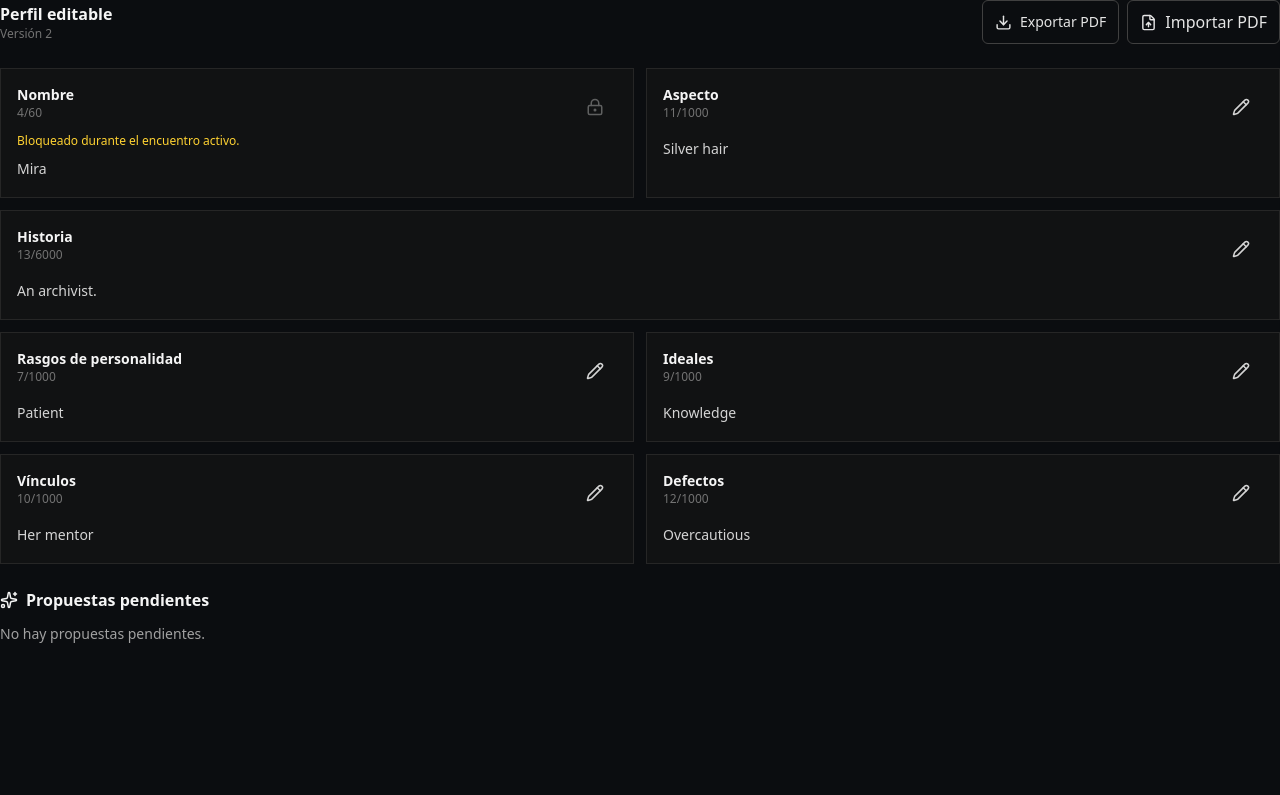
Test: CharacterProfileEditor › explains a locked name and keeps other narrative fields editable
Expected: the button named "Editar Nombre" is disabled, [573,85,617,129]
Expected: the text "Bloqueado durante el encuentro activo." is shown, [17,132,240,149]
Click the button named "Editar Aspecto" at coordinates (1241, 107), box [1219,85,1263,129]
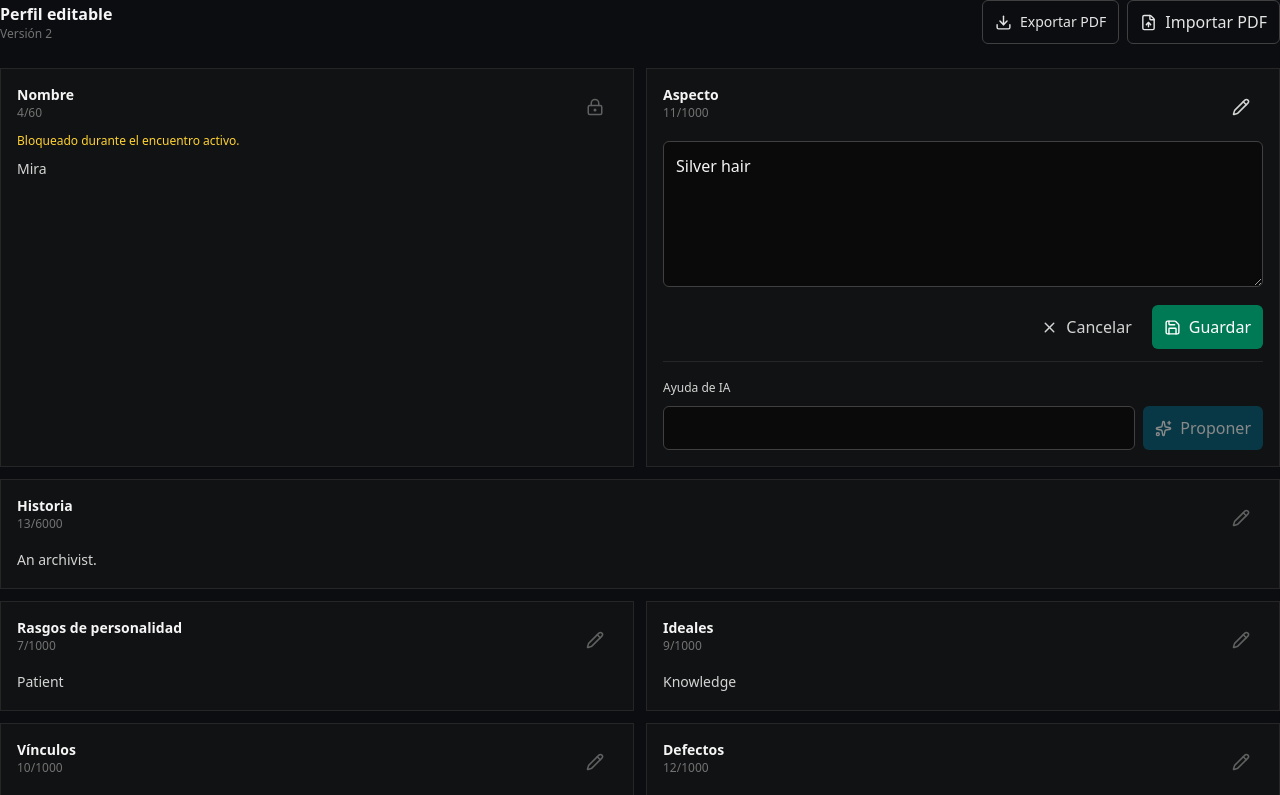
Expected: the text box named "Aspecto" holds "Silver hair", [663,141,1263,287]
